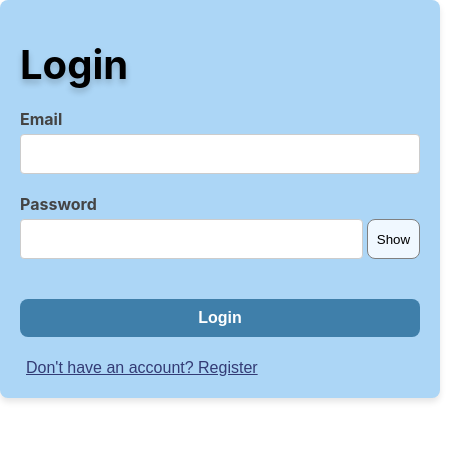
Test: Login Component › shows message when login fails
# Fill in inputs and press login button
In the field labelled "Email": x=220, y=154 [20,134,420,174], type "wrong@email.com"
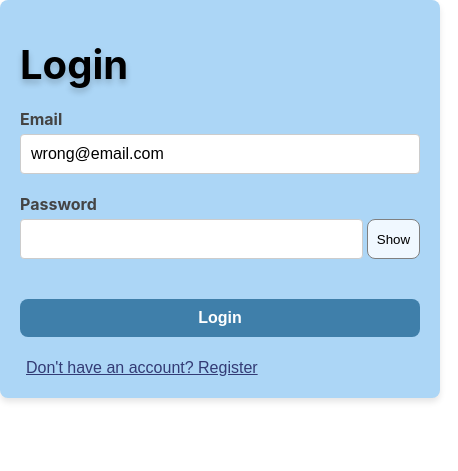
In the password field labelled "Password": x=191, y=239 [20,219,363,259], type "wrongpassword"
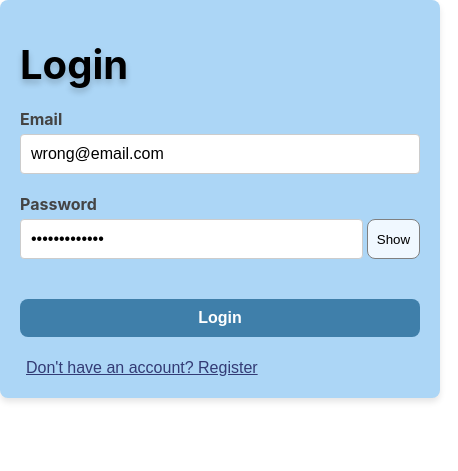
Click the button "Login": x=220, y=318 [20,299,420,337]
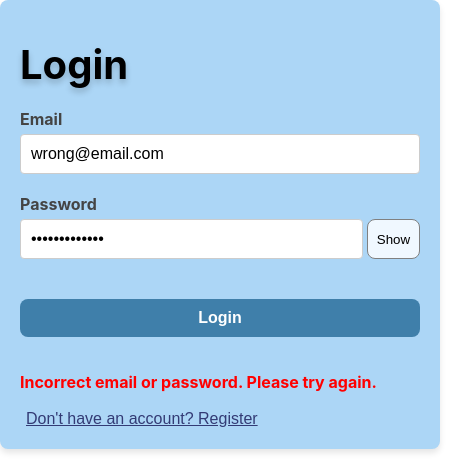
Expected: the text "Incorrect email or password. Please try again." is shown, [20,372,420,392]
